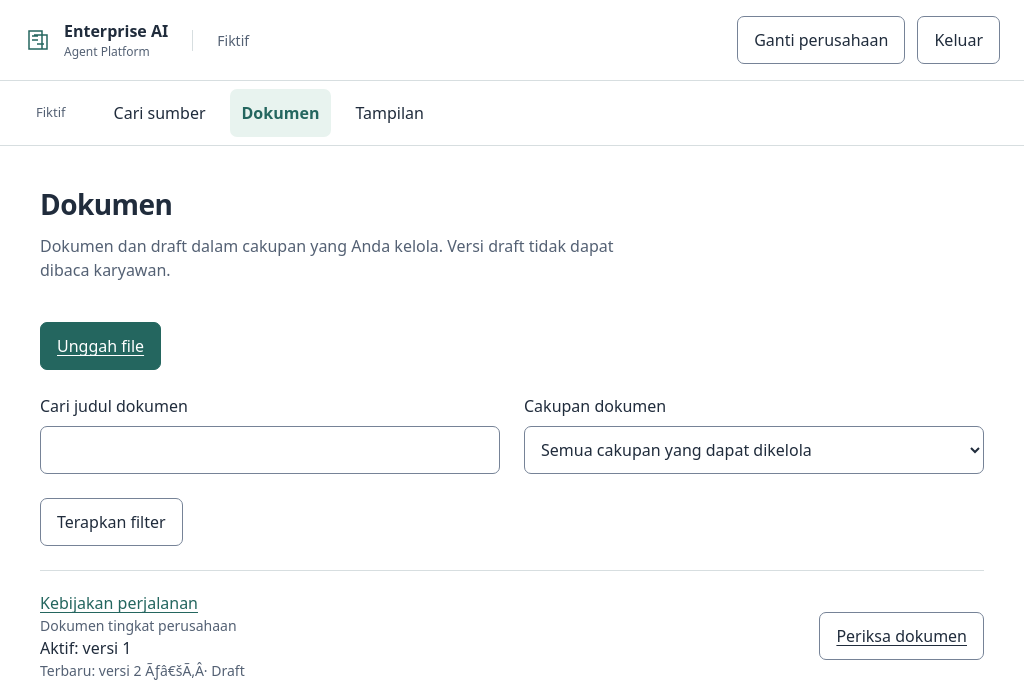
Test: discovers manager documents and separates active published version from the latest draft without history fan-out
Expected: the link "Kebijakan perjalanan" is shown, [40, 592, 198, 614]
Expected: the text "Aktif: versi 1" is shown, [40, 637, 132, 659]
What coordinates should you click on to do the following:
click the link "Periksa dokumen"
I would click on:
 (902, 636)
Its box is [819, 612, 984, 660].
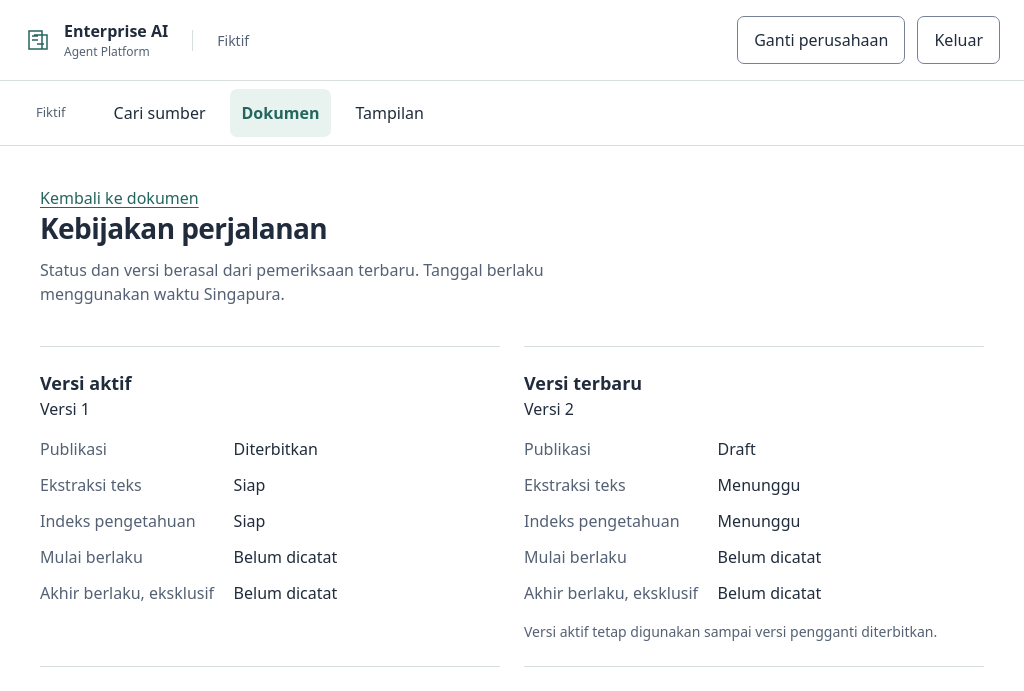
Now the text "Versi aktif tetap digunakan sampai versi pengganti diterbitkan." is shown, box [524, 621, 984, 642]
Now the 1st text "Belum dicatat" is shown, box [234, 546, 337, 568]
